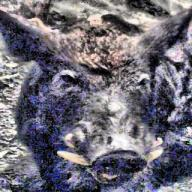boar: (0, 1, 191, 191)
